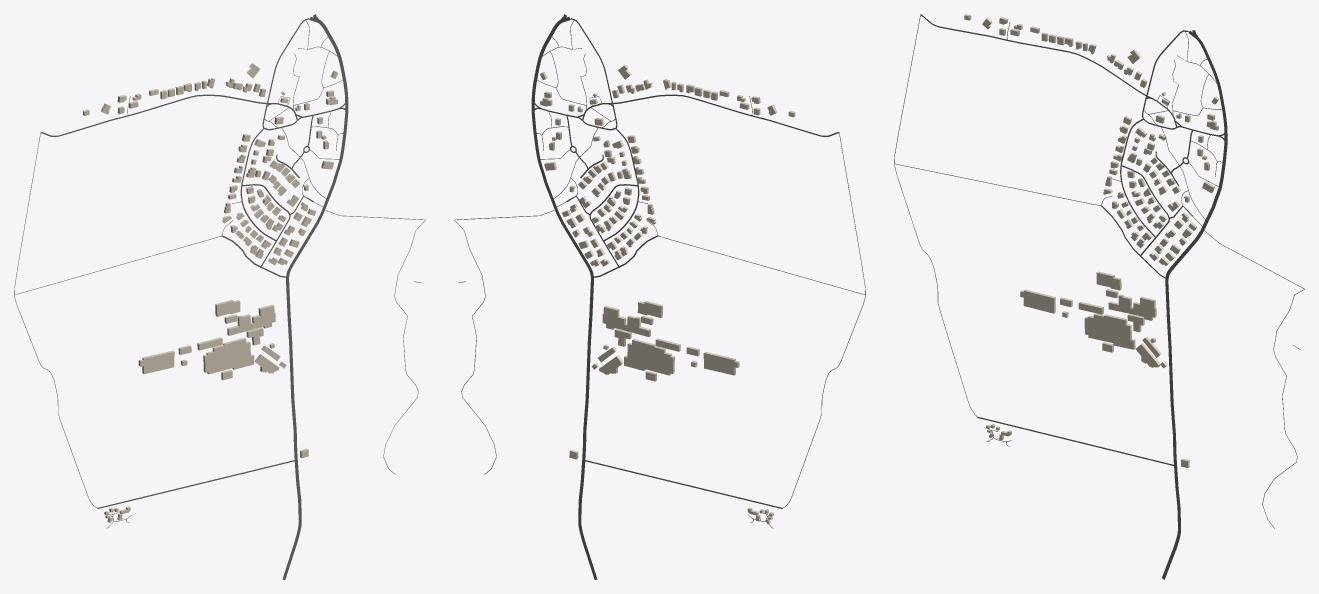
Rendered from historic-palestine-14_38_3560_3320.glb.
3 renders of one model, left to right at view 1: azimuth 30°, elevation 25°; view 2: azimuth 150°, elevation 25°; view 3: azimuth 330°, elevation 25°, orthographic.
Visible parts, largest first — view 1: Road המייסדים, Building_.009, Building_.012; view 2: Road המייסדים, Building_.009, Building_.012; view 3: Road המייסדים, Building_.009, Building_.012.
Boxes of the visible parts, <box> form: Road המייסדים: <box>282,19,348,579</box>; Building_.009: <box>203,337,254,374</box>; Building_.012: <box>138,350,174,374</box>; Road המייסדים: <box>531,19,597,579</box>; Building_.009: <box>624,339,674,375</box>; Building_.012: <box>703,352,739,375</box>; Road המייסדים: <box>1162,37,1227,579</box>; Building_.009: <box>1084,313,1135,349</box>; Building_.012: <box>1020,289,1055,313</box>.
Size of the model in its own units: 1047 by 1357 by 8.7.
